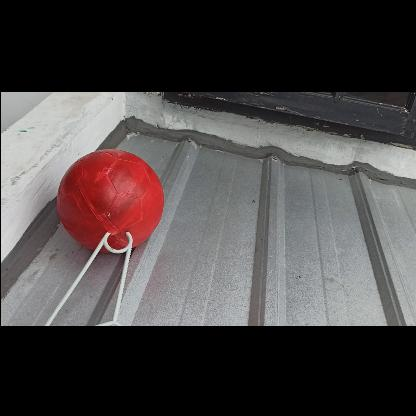red_ball: (57, 146, 163, 252)
